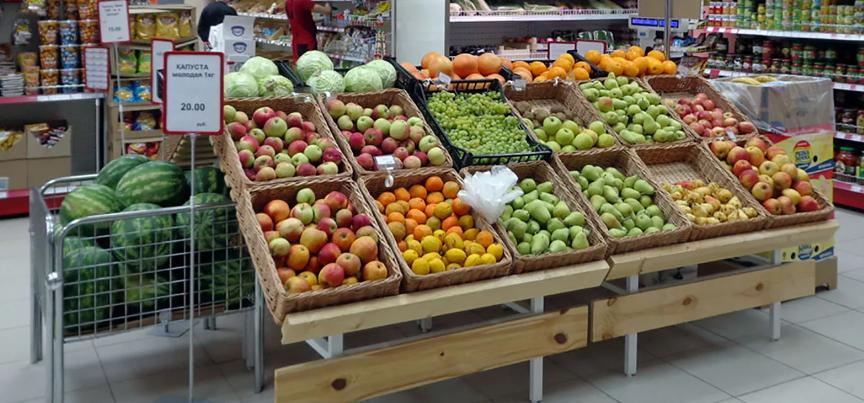cabbage: (302, 50, 394, 93), (225, 56, 293, 99)
grapes: (428, 90, 532, 160)
green apple: (530, 118, 610, 154)
lemon: (395, 233, 506, 275)
mandarin: (376, 175, 480, 238)
orange: (580, 48, 678, 74), (512, 52, 592, 82)
pear: (576, 164, 676, 237), (501, 179, 589, 255), (587, 77, 681, 143), (664, 176, 756, 224)
red apple: (254, 188, 386, 295), (224, 102, 346, 184), (710, 138, 820, 214), (332, 102, 448, 174), (676, 92, 753, 137)
watermelon: (58, 153, 243, 326)
